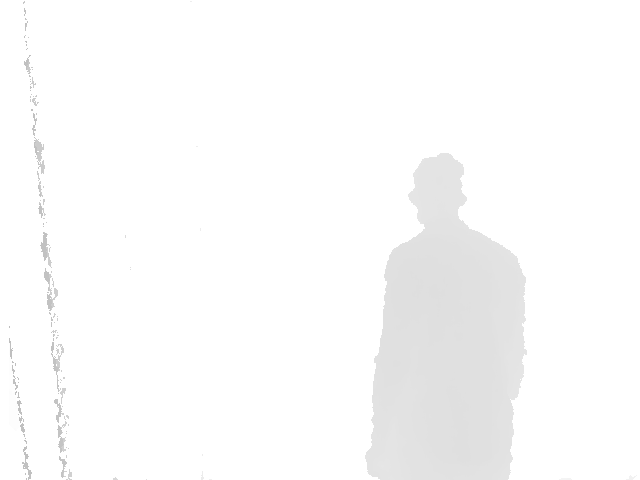head: (409, 153, 466, 229)
person: (363, 154, 530, 480)
